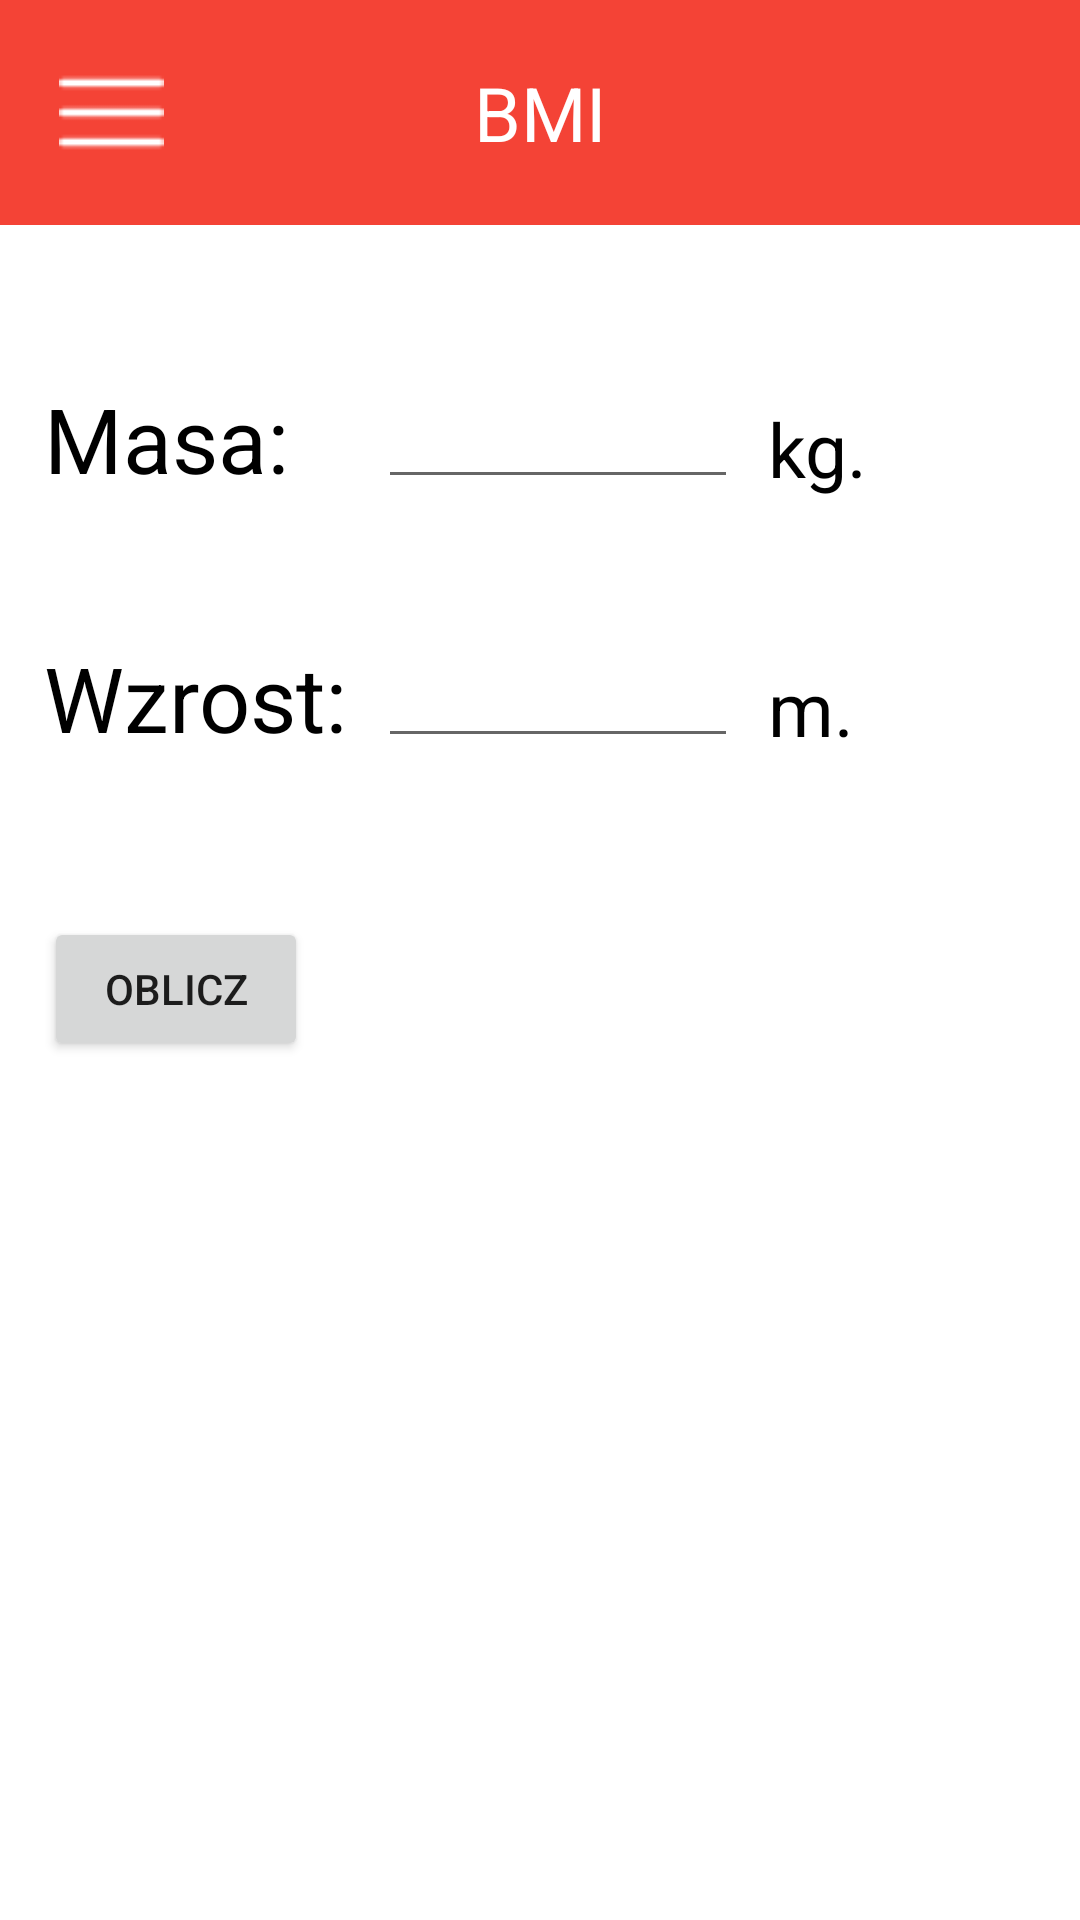

Where icons sit on this 1080 x 1920 app screen, as (x1, y1, x2, y2):
open: (59, 76, 164, 149)
